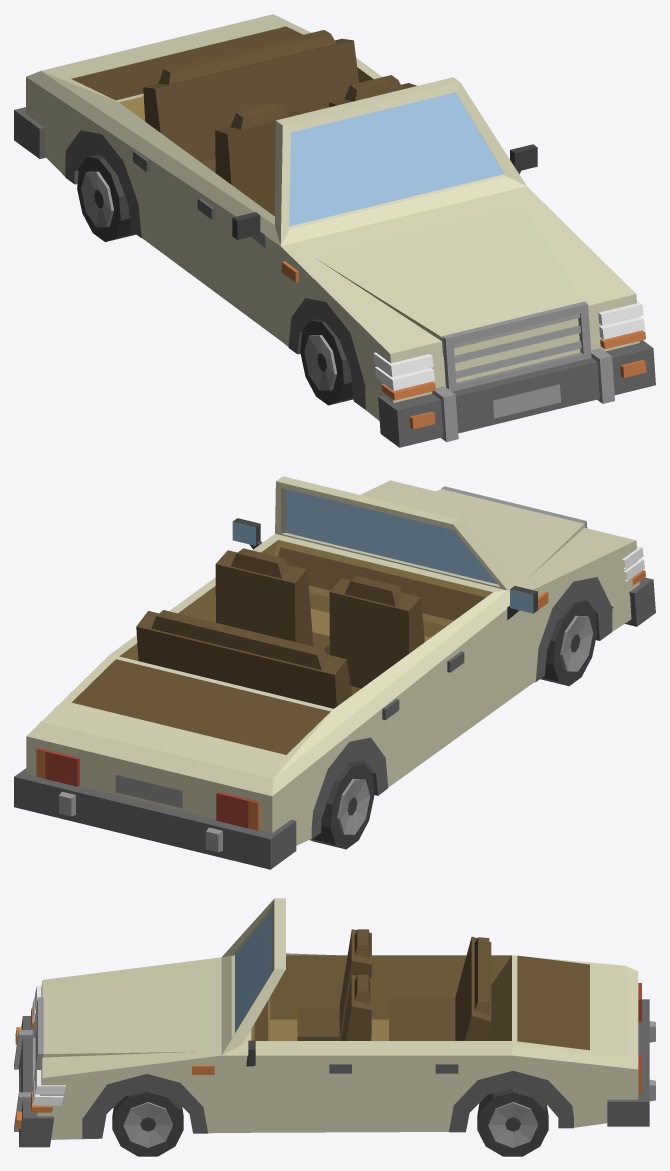
The model's file is transport_cool_001.glb.
3 renders of one model, top to bottom at view 1: azimuth 30°, elevation 25°; view 2: azimuth 150°, elevation 25°; view 3: azimuth 270°, elevation 25°, orthographic. The views are drawn at different scales.
Parts seen in each view (by area): view 1: transport_cool_001; view 2: transport_cool_001; view 3: transport_cool_001.
Part boxes in pixels (left/top/right/bottom): transport_cool_001: left=14, top=14, right=655, bottom=447; transport_cool_001: left=14, top=476, right=655, bottom=869; transport_cool_001: left=14, top=898, right=655, bottom=1156.
Size of the model in its own units: 1.48 by 0.9874 by 3.34.
1 material, 1 textured.
